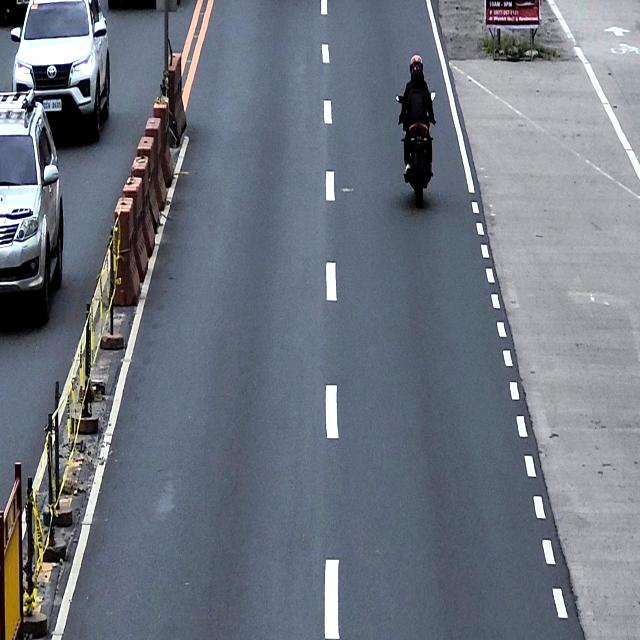Car: (0, 87, 64, 320), (10, 0, 110, 140)
License-Plate: (42, 97, 62, 112)
Motorcycle: (396, 90, 436, 208)
